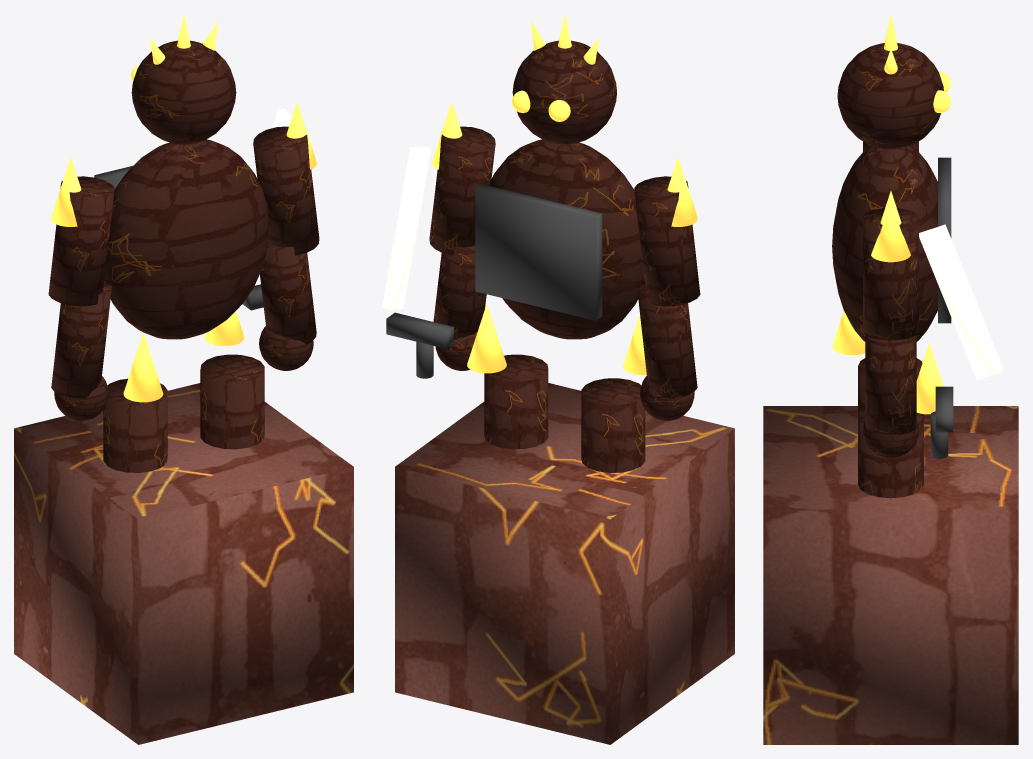
File: surtr.glb
3 views of the same model, side by side, from view 1: azimuth 30°, elevation 25°; view 2: azimuth 150°, elevation 25°; view 3: azimuth 270°, elevation 25° (orthographic). The views are drawn at different scales.
Visible parts, largest first — view 1: Cube, Torso, Head, UpperArmR, UpperArmL, LegR, LegL, ForearmL, ForearmR, FistR, Flame3, FistL (+3 smaller); view 2: Cube, Breastplate, Torso, Head, UpperArmL, UpperArmR, LegL, LegR, ForearmL, Blade, ForearmR, Crossguard (+7 smaller); view 3: Cube, Torso, Head, UpperArmR, ForearmR, Blade, LegR, Flame0, Breastplate, Flame2, FistR, Crossguard (+3 smaller).
Boxes of the visible parts, x1,y1,x2,y2 form: Cube: (14, 383, 353, 744); Torso: (104, 139, 269, 339); Head: (131, 40, 236, 144); UpperArmR: (253, 126, 319, 255); UpperArmL: (48, 176, 114, 306); LegR: (200, 354, 264, 449); LegL: (103, 378, 167, 472); ForearmL: (51, 281, 111, 398); ForearmR: (260, 243, 316, 343); FistR: (259, 326, 313, 370); Flame3: (123, 332, 163, 402); FistL: (54, 376, 108, 420); Cube: (395, 383, 734, 744); Breastplate: (475, 184, 602, 320); Torso: (488, 139, 644, 339); Head: (512, 40, 616, 144); UpperArmL: (634, 176, 700, 306); UpperArmR: (429, 126, 495, 255); LegL: (581, 378, 645, 472); LegR: (484, 354, 548, 449); ForearmL: (637, 281, 697, 398); Blade: (382, 146, 431, 309); ForearmR: (433, 246, 486, 340); Crossguard: (386, 312, 453, 348); Cube: (763, 406, 1018, 744); Torso: (832, 146, 938, 341); Head: (837, 43, 943, 149); UpperArmR: (863, 208, 918, 340); ForearmR: (865, 335, 916, 434); Blade: (919, 224, 1002, 380); LegR: (858, 407, 923, 498); Flame0: (871, 191, 910, 262); Breastplate: (938, 157, 951, 323); Flame2: (916, 343, 943, 414); FistR: (863, 420, 918, 458); Crossguard: (935, 386, 953, 432).
Size of the model in its own units: 2 by 4.5 by 1.54.
5 materials, 2 textured.
